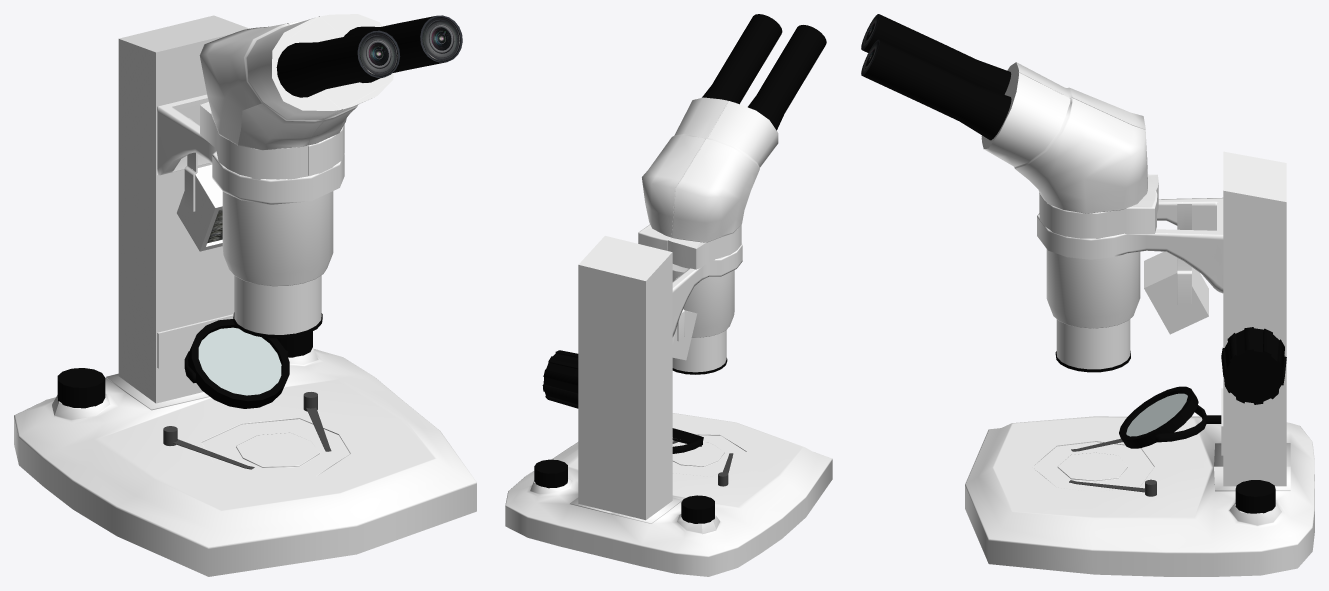
File: Microscope.FBX
3 views of the same model, side by side, from view 1: azimuth 30°, elevation 25°; view 2: azimuth 150°, elevation 25°; view 3: azimuth 270°, elevation 25° (orthographic). The views are drawn at different scales.
Parts seen in each view (by area): view 1: micro; view 2: micro; view 3: micro.
Boxes of the visible parts, x1=… form: micro: x1=14, y1=14, x2=476, y2=576; micro: x1=505, y1=14, x2=832, y2=576; micro: x1=861, y1=14, x2=1314, y2=576.
Bounding box in the file's own units: 122 × 172 × 201.
Materials: 2 (1 with a texture image).
